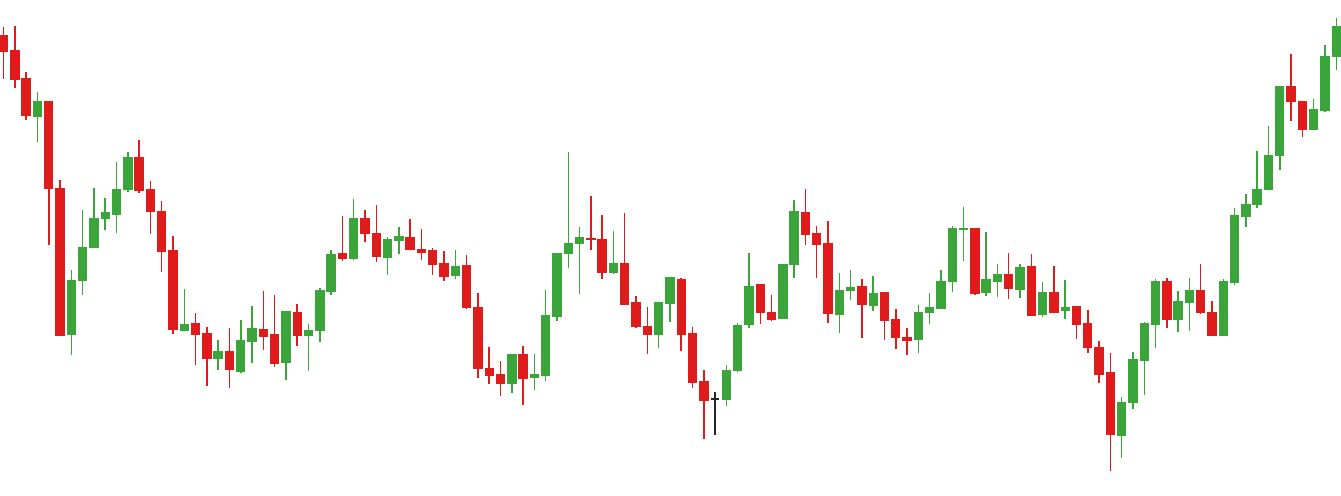buy: (494, 312, 720, 446)
sell: (347, 151, 576, 307)
